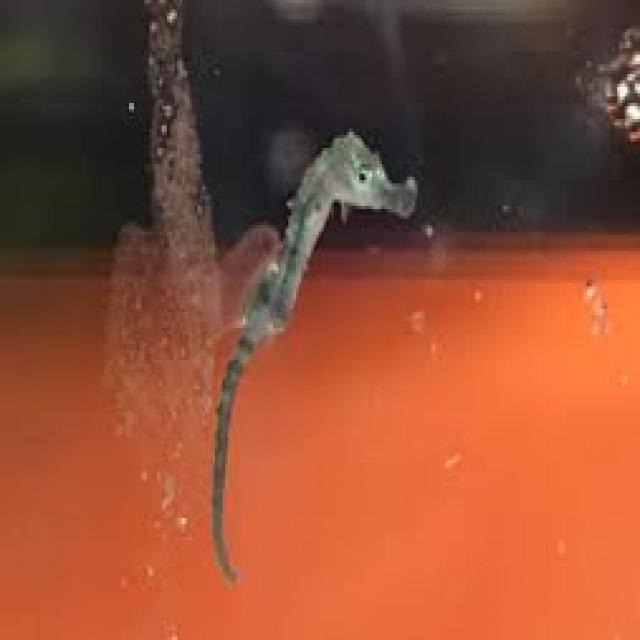SeaHorse: (210, 132, 417, 588)
